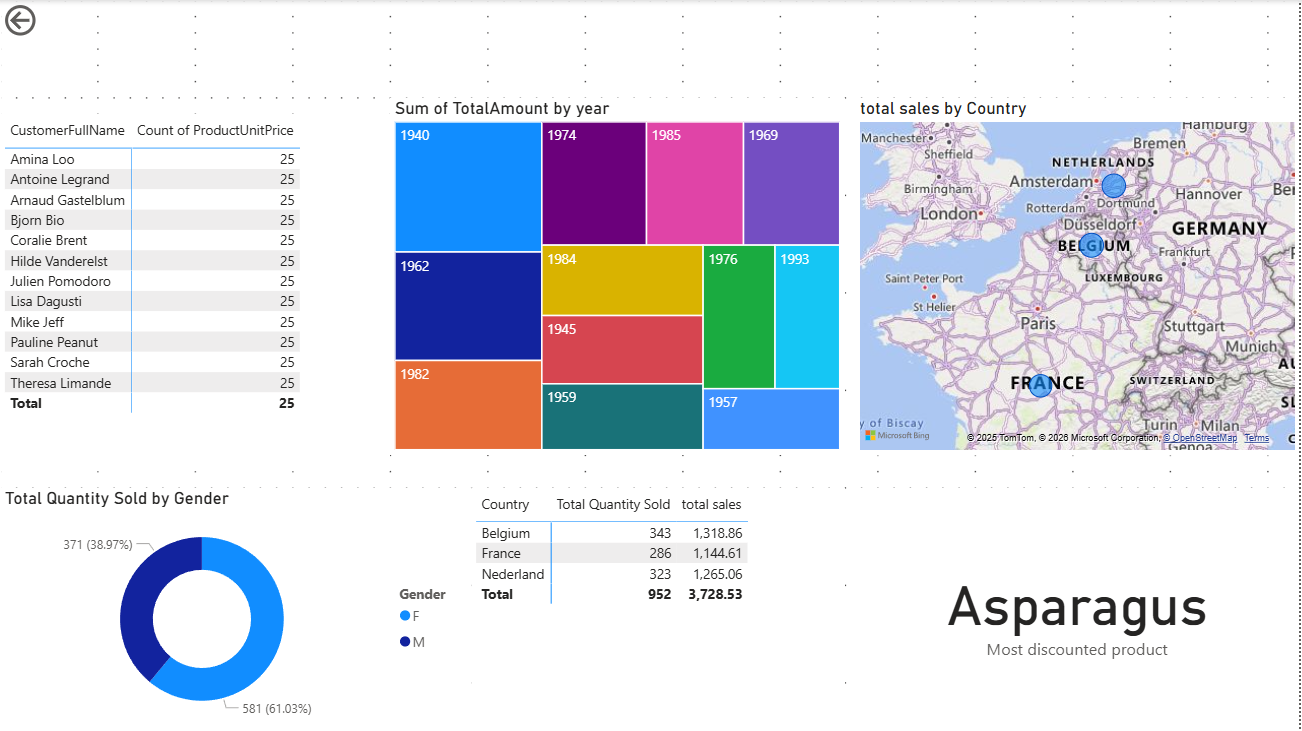

The page's visual inventory and layout, read from the dashboard file:
{"tool":"powerbi","page":{"name":"Page 2","canvas":[1280,720],"ordinal":1},"visuals":[{"type":"pivotTable","fields":{"Rows":["Customer.CustomerFullName"],"Values":["Product.ProductUnitPrice"]},"box":[0,112,384,352],"z":0},{"type":"treemap","fields":{"Values":["Sales.TotalAmount"],"Group":["Customer.year"]},"box":[384,96,448,352],"z":1000},{"type":"donutChart","fields":{"Y":["Sales.Total Quantity Sold"],"Series":["Customer.Gender"]},"box":[0,480,464,240],"z":2000},{"type":"map","fields":{"Size":["Sales.total sales"],"Category":["Customer.Country"]},"box":[842,96,438,352],"z":3000},{"type":"card","fields":{"Values":["Product.ProductName"]},"box":[842,480,438,240],"z":4000},{"type":"actionButton","box":[0,0,100,40],"z":5000},{"type":"pivotTable","fields":{"Rows":["Customer.Country"],"Values":["Sales.Total Quantity Sold","Sales.total sales"]},"box":[464,480,368,240],"z":6000}]}

Visuals, with their boxes in screenshot pixels (x1, y1, x2, y2), scaled from the page's 1280x720 canvas onto the 1302x731 screenshot:
pivotTable - Customer.CustomerFullName x Product.ProductUnitPrice: detection(0, 114, 391, 471)
treemap - Sales.TotalAmount x Customer.year: detection(391, 97, 846, 455)
donutChart - Sales.Total Quantity Sold x Customer.Gender: detection(0, 487, 472, 730)
map - Sales.total sales x Customer.Country: detection(856, 97, 1301, 455)
card - Product.ProductName: detection(856, 487, 1301, 730)
actionButton: detection(0, 0, 102, 41)
pivotTable - Customer.Country x Sales.Total Quantity Sold: detection(472, 487, 846, 730)
